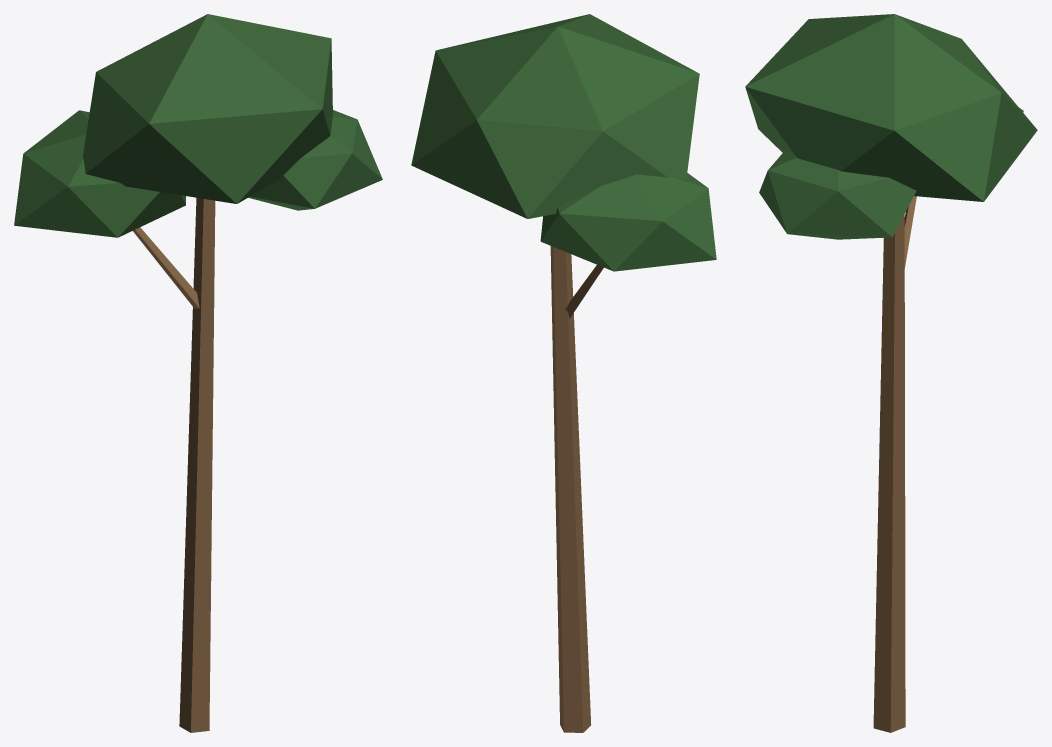
File: pin.glb
3 renders of one model, left to right at view 1: azimuth 30°, elevation 25°; view 2: azimuth 150°, elevation 25°; view 3: azimuth 270°, elevation 25°, orthographic. The views are drawn at different scales.
Visible parts, largest first — view 1: pin; view 2: pin; view 3: pin.
Part boxes in pixels (x1,y1,x2,y2): pin: (14, 14, 382, 732); pin: (411, 14, 716, 732); pin: (745, 14, 1037, 732).
Size of the model in its own units: 6.31 by 14.07 by 5.19.
Materials: 1 (1 with a texture image).
